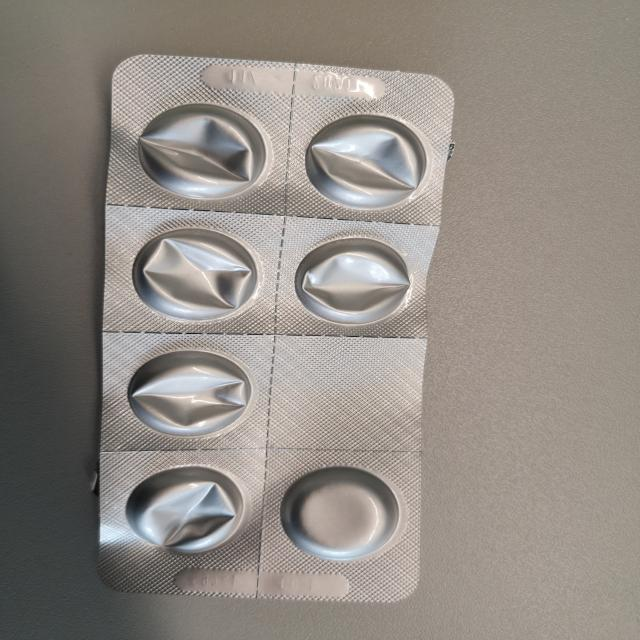Empty: (134, 100, 274, 201), (128, 226, 264, 326), (301, 111, 429, 214), (123, 346, 255, 442), (124, 462, 248, 558), (291, 235, 415, 328)
Pill: (276, 464, 404, 564)
